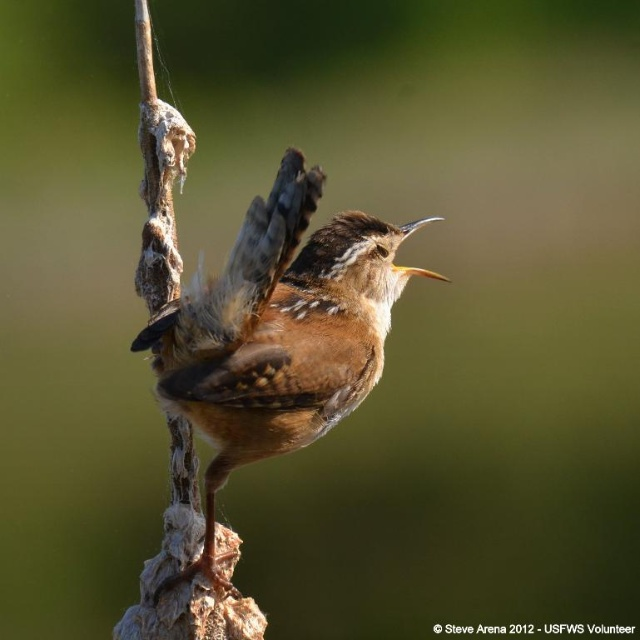Sparrow: (128, 146, 446, 609)
